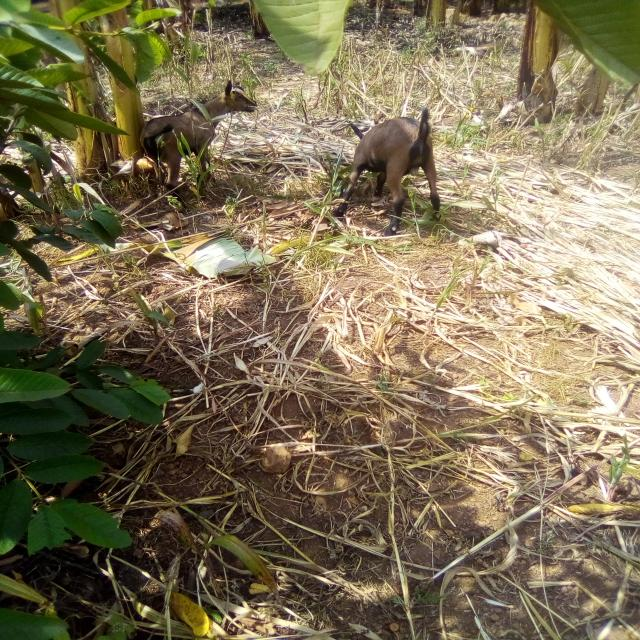goat: (314, 86, 482, 260)
